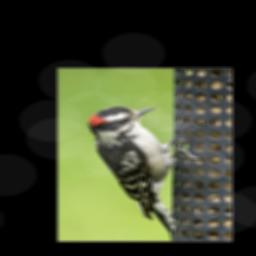Woodpecker: (88, 104, 195, 234)
